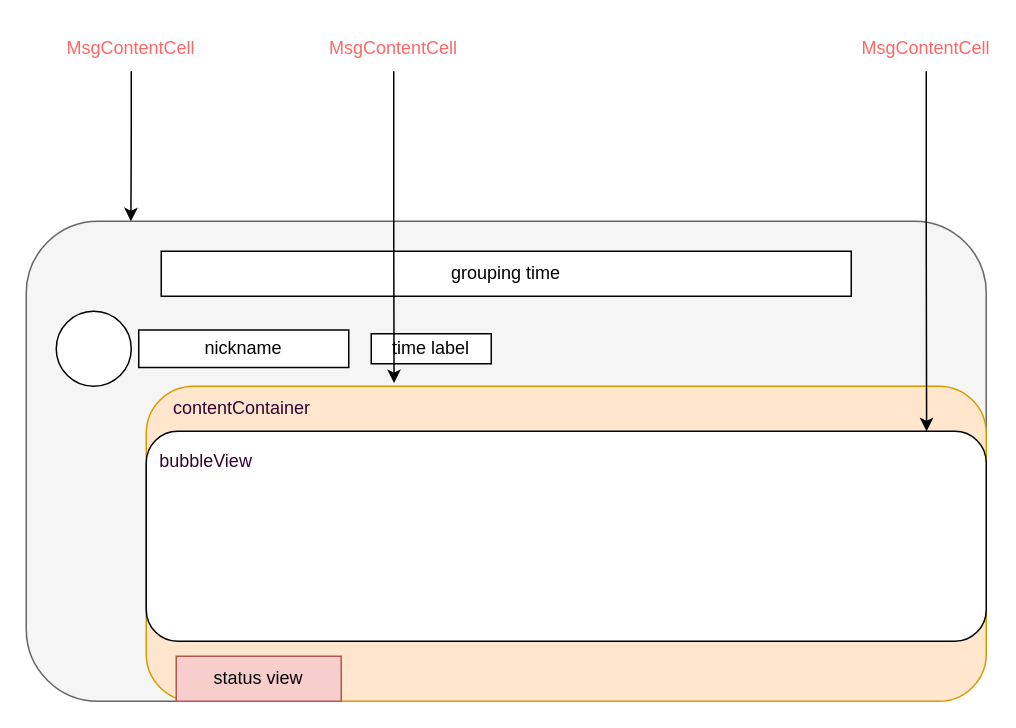
The diagram is 1016 pixels wide and 728 high, and some of its shapes have lost their labels. Here are the shapes that lost their labels. From the top down, the box of each, then its label:
(55, 310, 131, 386): avatar
(145, 430, 986, 641): text、image ...
